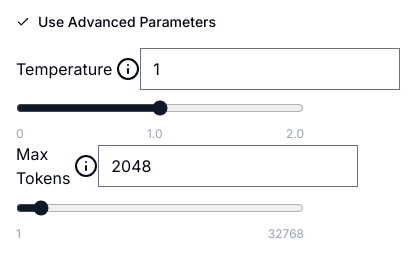
it: AdditionalModelSettings › should clamp an out-of-range temperature once the field is left
Replace the text in the field named "Temperature value" with "9". click: (270, 69)
box: [140,48,400,90]
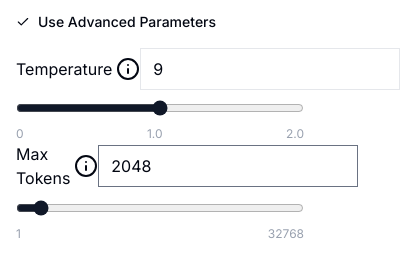
Press Tab
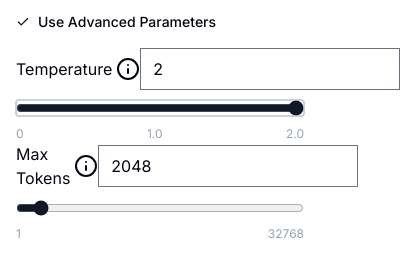
Check: the field named "Temperature value" holds "2", box [140,48,400,90]
